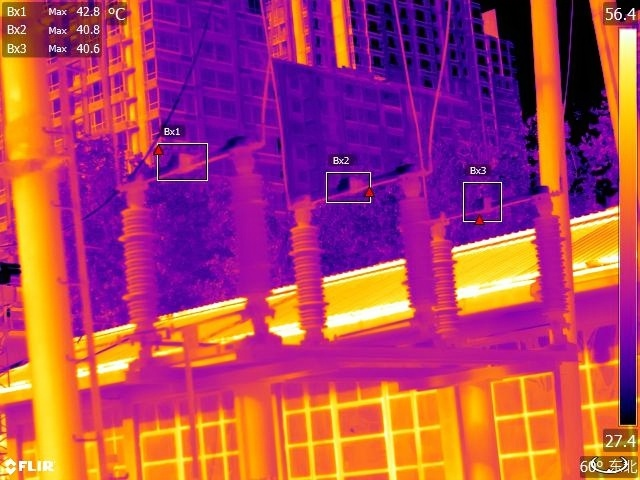post insulator: (230, 166, 280, 306), (120, 202, 165, 323), (395, 197, 440, 314), (289, 222, 331, 333), (532, 208, 571, 323), (432, 236, 462, 337)
switch: (120, 129, 273, 209), (288, 160, 429, 224), (428, 180, 562, 238)
